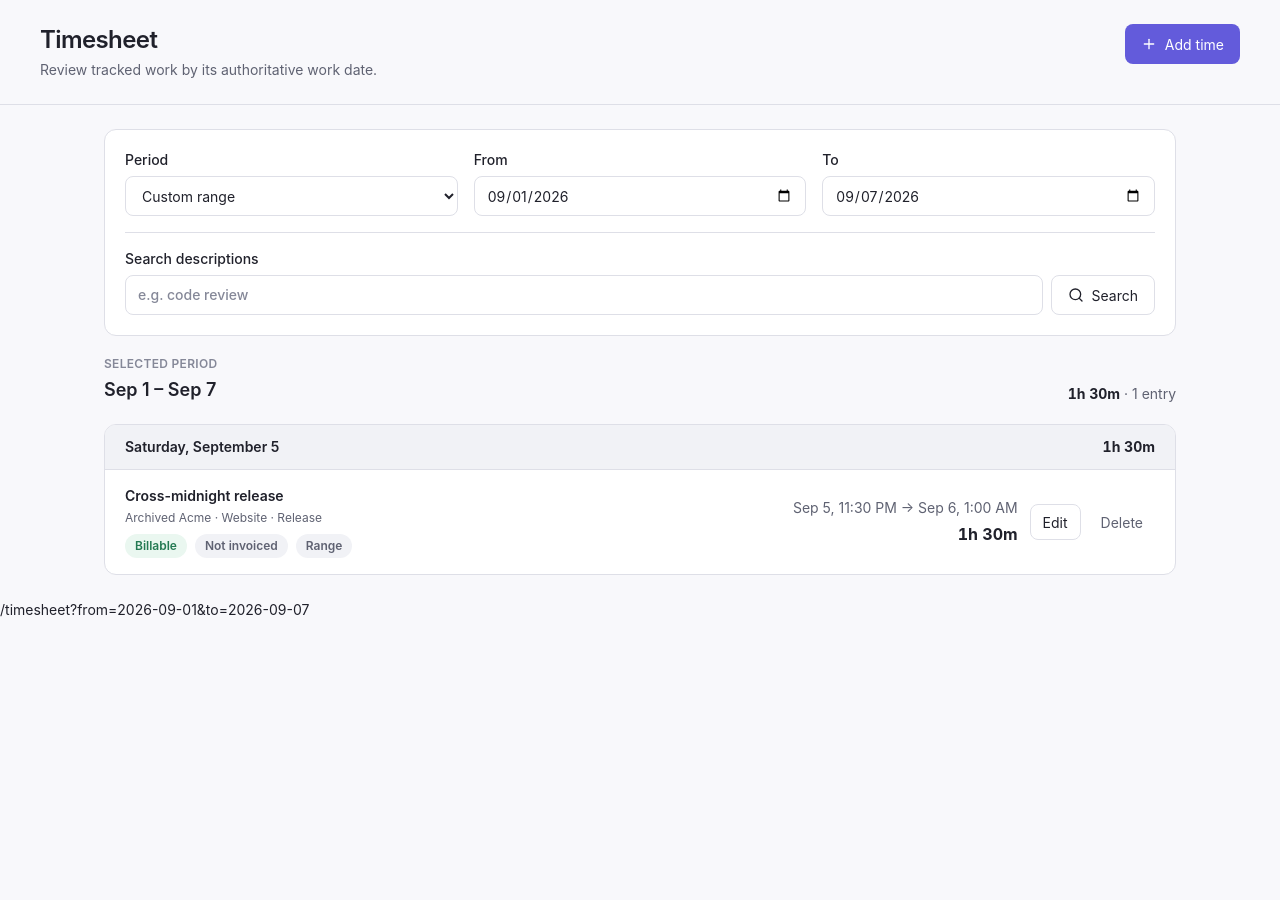
TimesheetPage › reuses add/edit/delete dialogs and moves an edited entry to its new group
Click the button "Add time": (1182, 44) top-left (1125, 24), bottom-right (1240, 64)
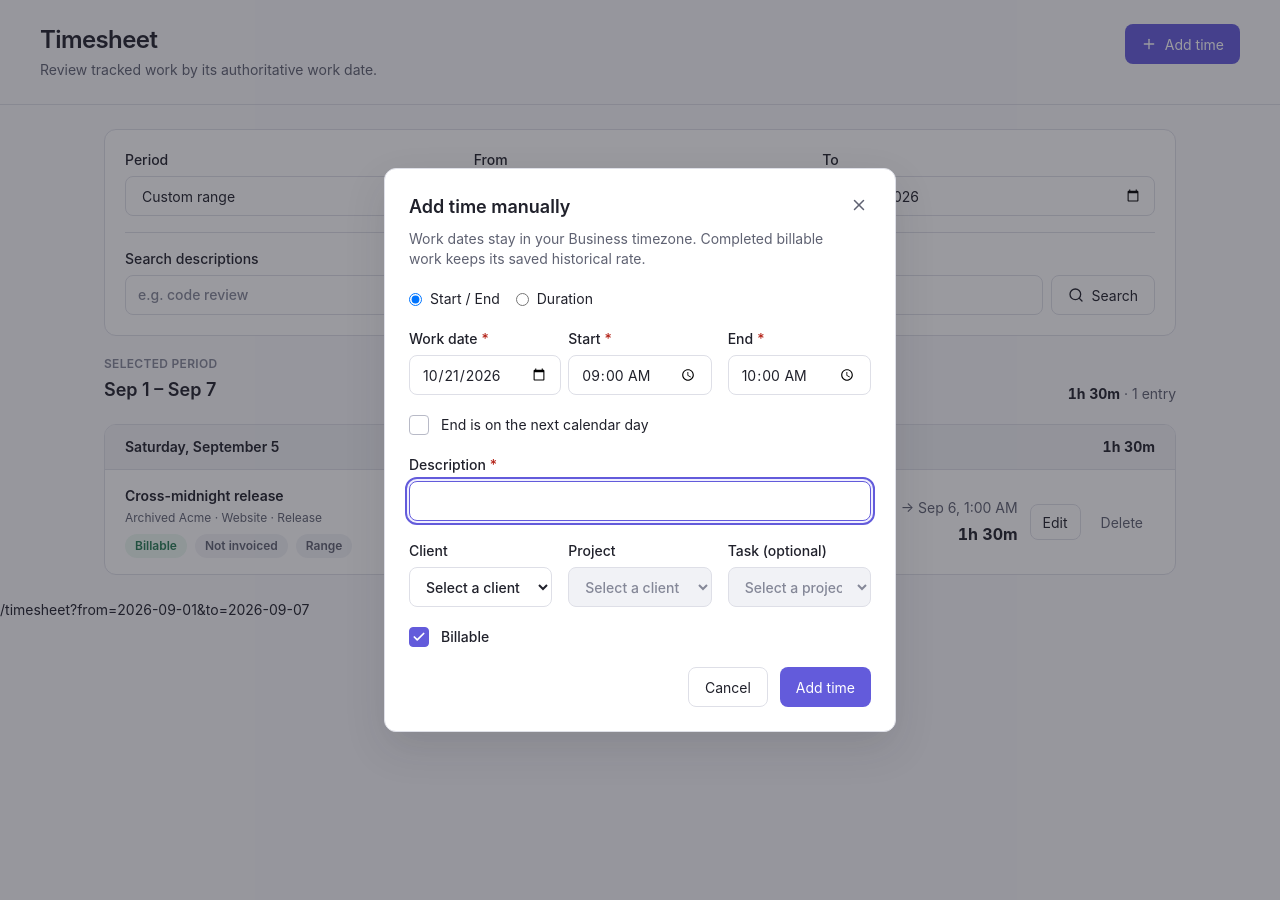
Now the dialog "Add time manually" is shown, box top-left (384, 168), bottom-right (896, 732)
Now the field labelled "Description" is shown, box top-left (409, 481), bottom-right (871, 521)
Click the button "Cancel": (728, 687) top-left (688, 667), bottom-right (768, 707)
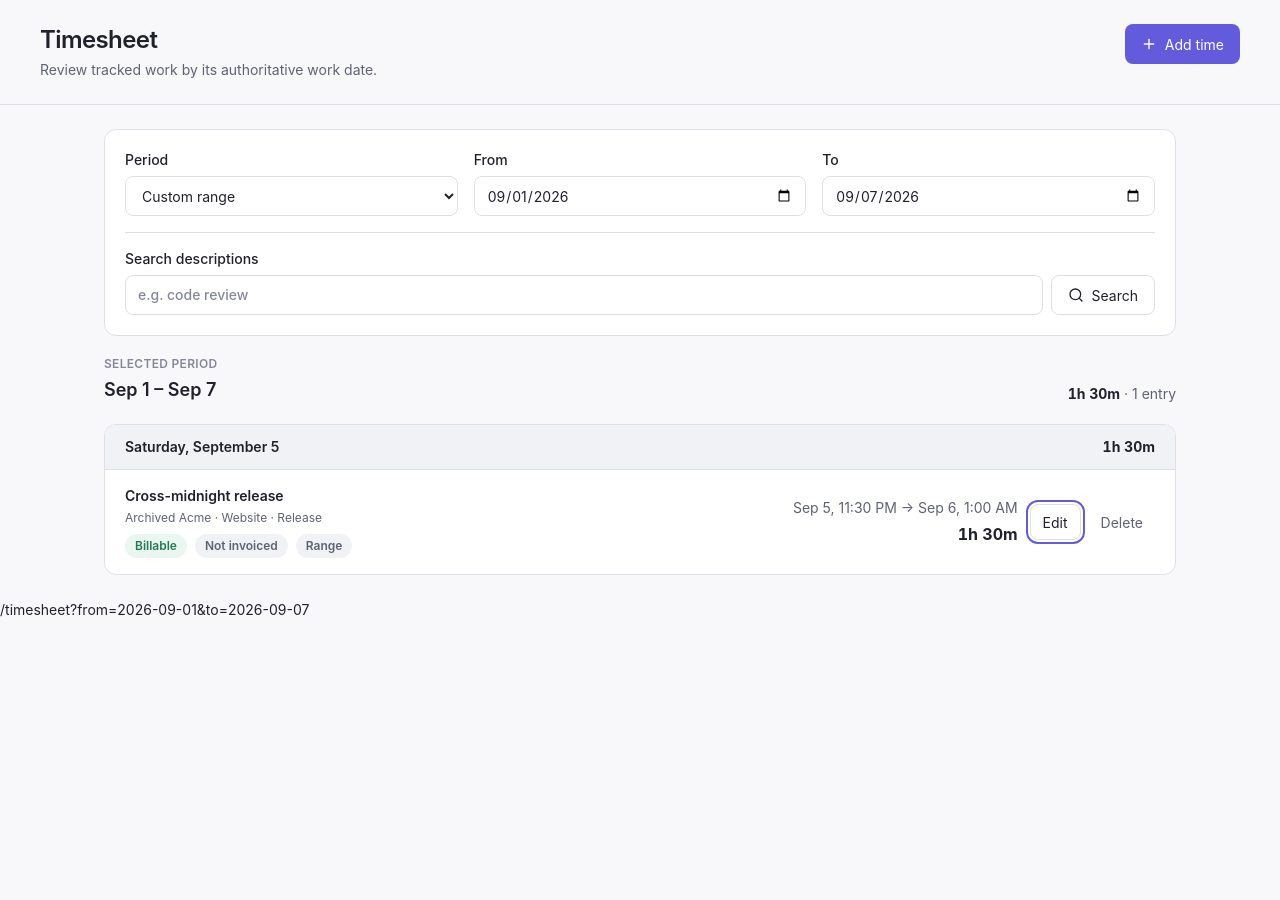
Press Enter
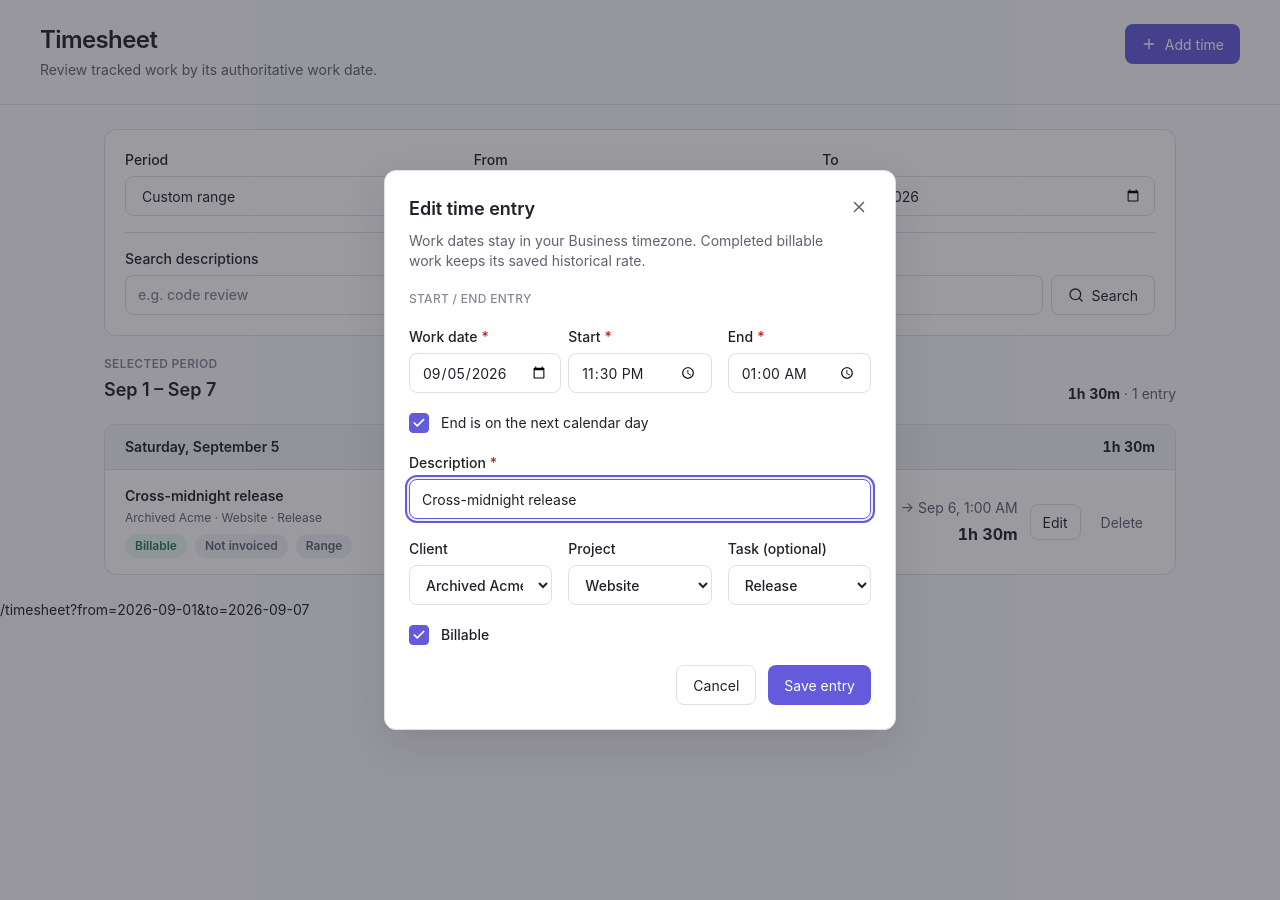
Now the field labelled "Description" is shown, box top-left (409, 479), bottom-right (871, 519)
In the date field labelled "Work date*": (485, 373) top-left (409, 353), bottom-right (561, 393), type "2026-09-03"
Click the button "Save entry": (820, 685) top-left (768, 665), bottom-right (871, 705)
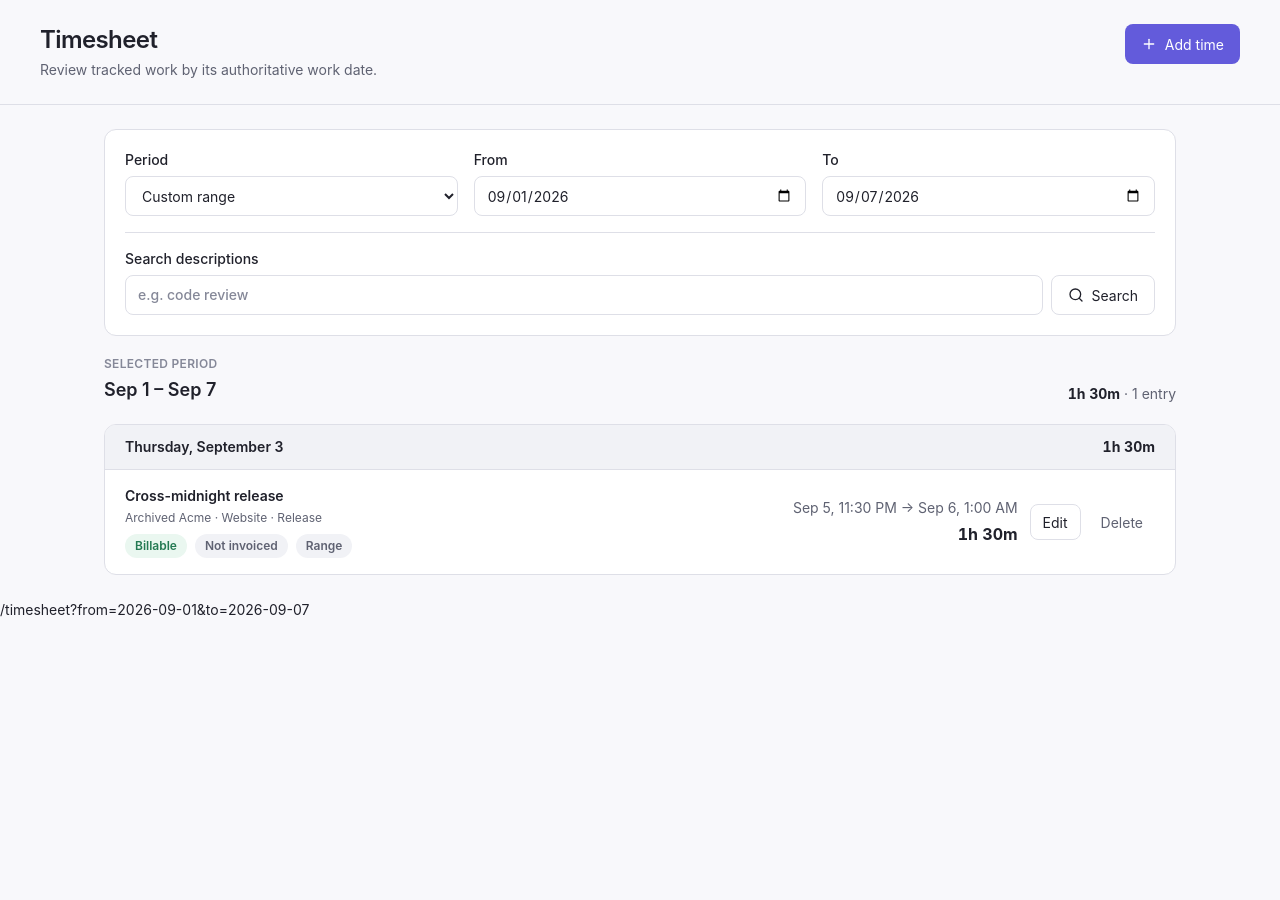
Now the heading "Thursday, September 3" is shown, box top-left (125, 437), bottom-right (283, 457)
Click the button "Delete": (1122, 522) top-left (1089, 504), bottom-right (1155, 540)
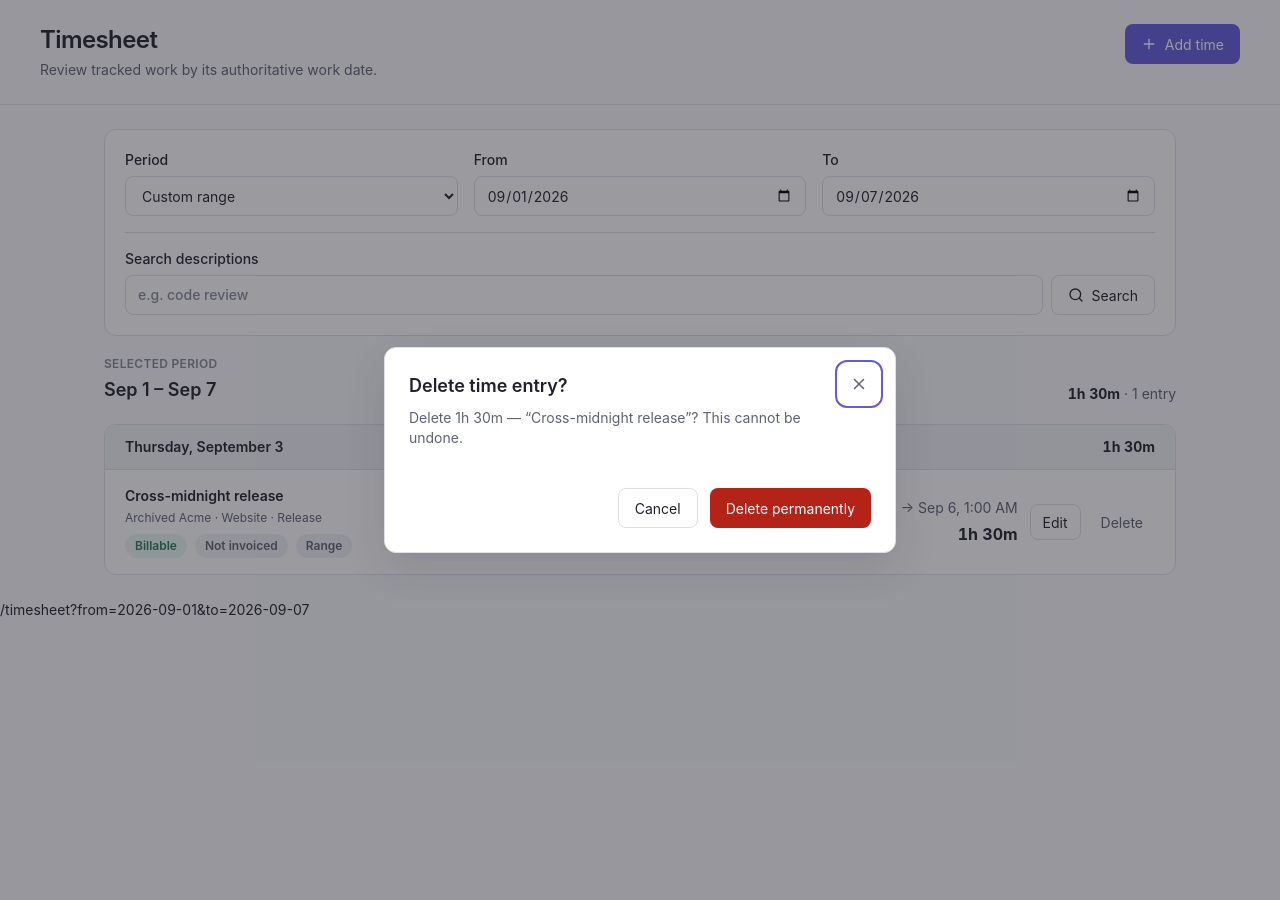
Now the text "Cross-midnight release" is shown, box top-left (409, 409), bottom-right (801, 446)
Click the button "Delete permanently": (790, 508) top-left (710, 488), bottom-right (871, 528)
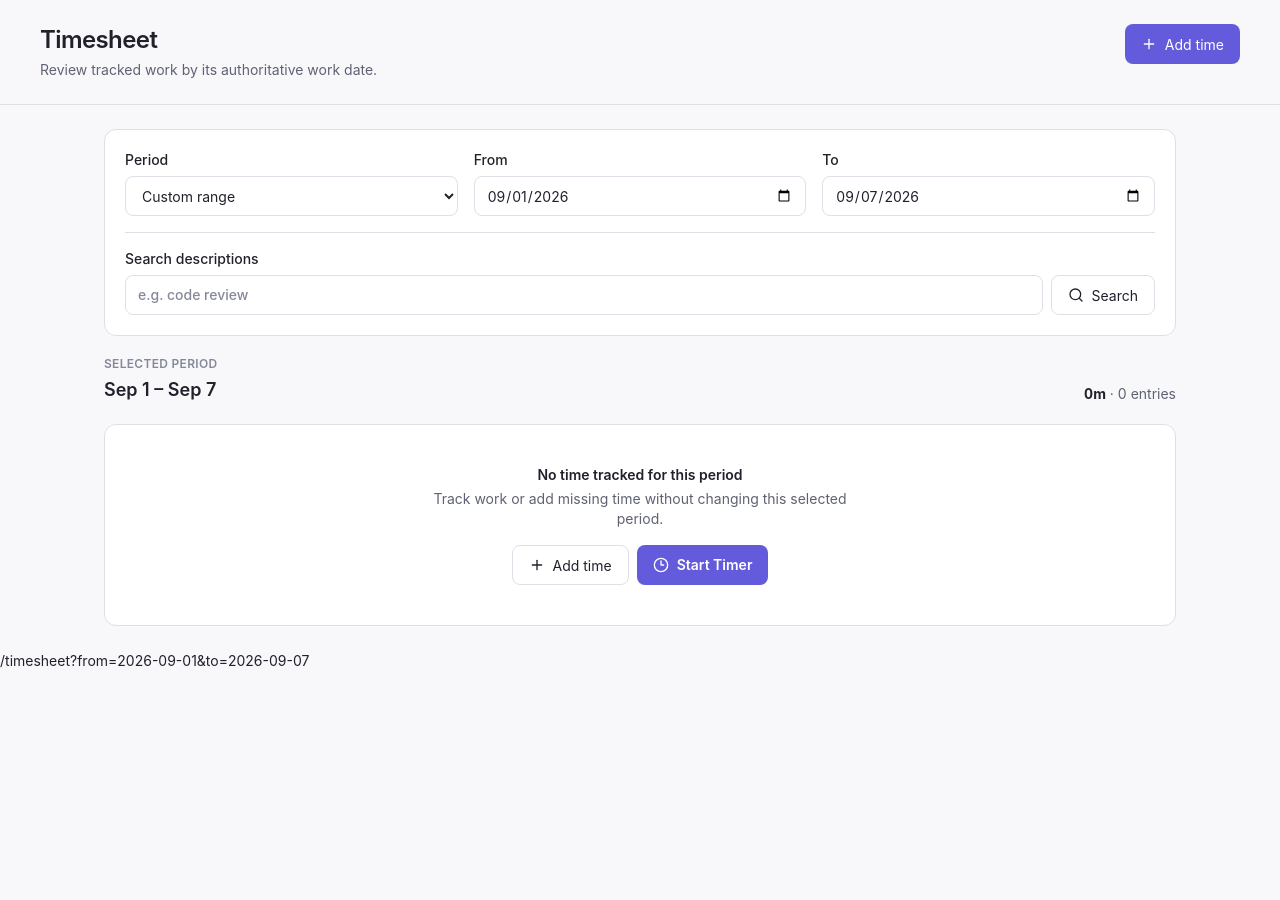
Now the heading "No time tracked for this period" is shown, box top-left (537, 466), bottom-right (743, 483)
